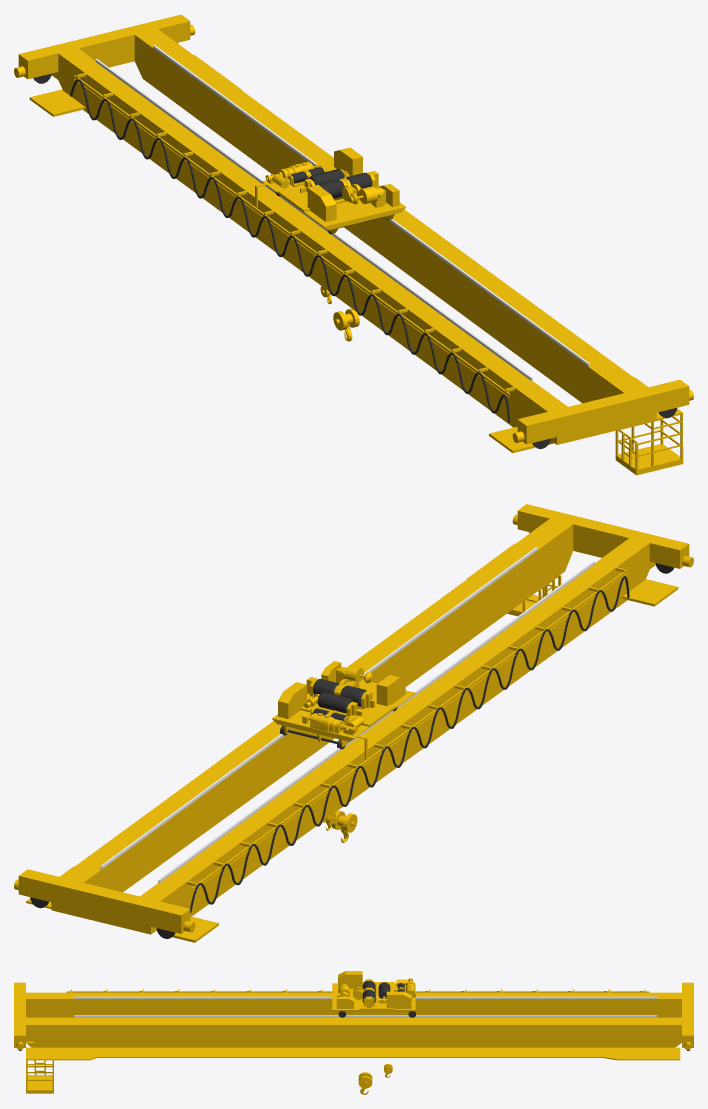
3 renders of one model, top to bottom at view 1: azimuth 30°, elevation 25°; view 2: azimuth 150°, elevation 25°; view 3: azimuth 270°, elevation 25°, orthographic. The views are drawn at different scales.
Parts seen in each view (by area): view 1: 1_Bay_C_1806_Body, 1_Bay_C_1806_Body_Head; view 2: 1_Bay_C_1806_Body, 1_Bay_C_1806_Body_Head; view 3: 1_Bay_C_1806_Body, 1_Bay_C_1806_Body_Head, 1_Bay_C_1806_Head_Hook_01.
Boxes of the visible parts, x1,y1,x2,y2 form: 1_Bay_C_1806_Body: (14,14,693,475); 1_Bay_C_1806_Body_Head: (255,147,405,234); 1_Bay_C_1806_Body: (14,504,693,942); 1_Bay_C_1806_Body_Head: (272,661,415,759); 1_Bay_C_1806_Body: (14,982,693,1093); 1_Bay_C_1806_Body_Head: (332,971,415,1017); 1_Bay_C_1806_Head_Hook_01: (358,1072,372,1094).
Size of the model in its own units: 7.84 by 6.99 by 39.13.
